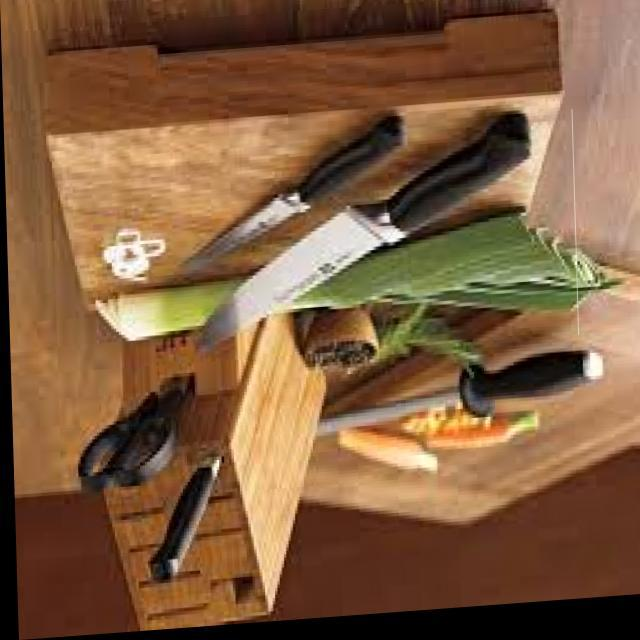knife: (196, 109, 534, 358), (174, 115, 404, 274)
